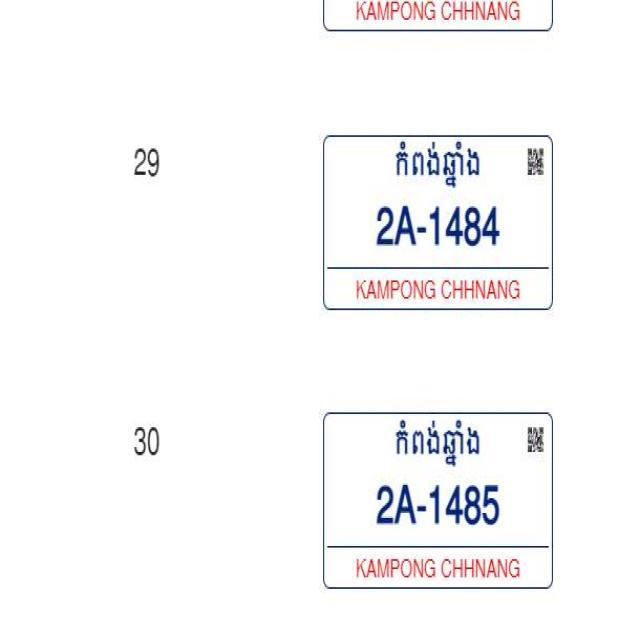Kampong_Chhnang: (394, 416, 484, 471), (394, 140, 484, 191)
